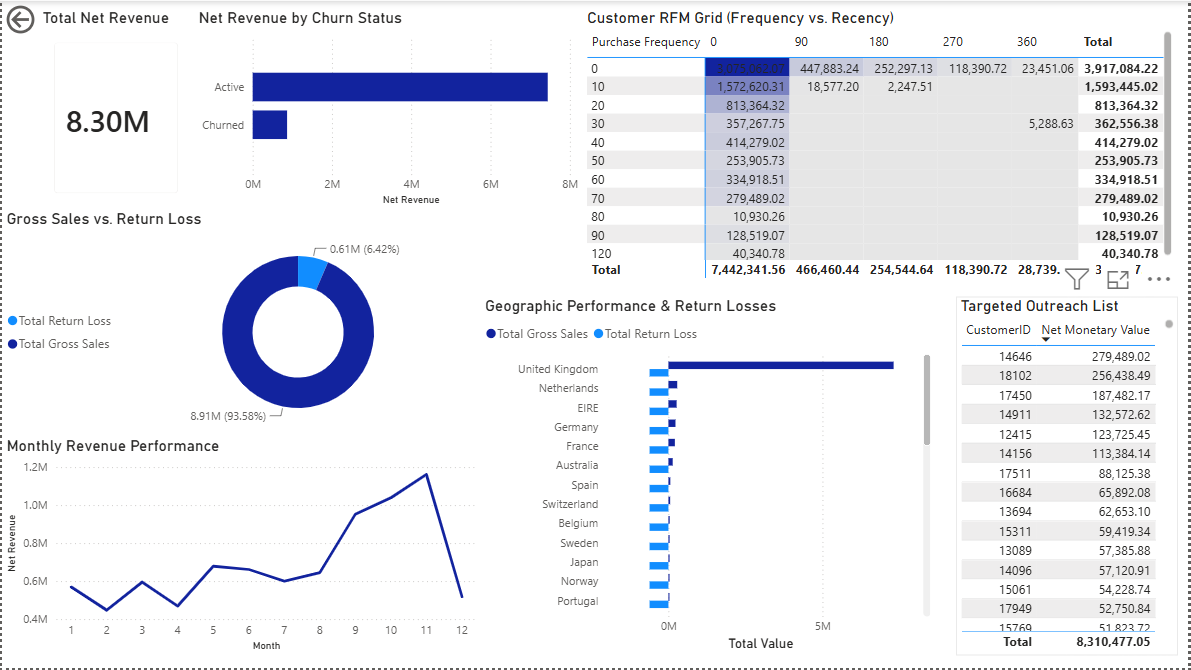

The page's visual inventory and layout, read from the dashboard file:
{"tool":"powerbi","page":{"name":"Page 1","canvas":[1280,720],"ordinal":0},"visuals":[{"type":"barChart","title":"Net Revenue by Churn Status","fields":{"Category":["ecommerce_analytics dim_customer_profiles.churn_status"],"Y":["ecommerce_analytics dim_customer_profiles.Net Corporate Revenue"]},"box":[207.3,8.1,419.4,217],"z":0},{"type":"cardVisual","title":"Total Net Revenue","fields":{"Data":["ecommerce_analytics dim_customer_profiles.Net Corporate Revenue"]},"box":[38.9,8.1,168.4,217],"z":1000},{"type":"donutChart","title":"Gross Sales vs. Return Loss","fields":{"Y":["ecommerce_analytics returns_transactions.Return Loss Absolute","ecommerce_analytics sales_transactions.Total Gross Sales"]},"box":[0,225.1,516.5,244.5],"z":2000},{"type":"lineChart","title":"Monthly Revenue Performance","fields":{"Category":["ecommerce_analytics view_monthly_revenue_trends.sales_month"],"Y":["Sum(ecommerce_analytics view_monthly_revenue_trends.current_month_revenue)"]},"box":[0,469.6,516.5,236.4],"z":3000},{"type":"clusteredBarChart","title":"Geographic Performance & Return Losses","fields":{"Category":["ecommerce_analytics sales_transactions.Country"],"Y":["ecommerce_analytics sales_transactions.Total Gross Sales","ecommerce_analytics returns_transactions.Total Return Loss"]},"box":[516.5,319,490.6,387],"z":4000},{"type":"pivotTable","title":"Customer RFM Grid (Frequency vs. Recency)","fields":{"Values":["Sum(ecommerce_analytics dim_customer_profiles.net_monetary)"],"Columns":["ecommerce_analytics dim_customer_profiles.recency (bins)"],"Rows":["ecommerce_analytics dim_customer_profiles.Purchase Frequency"]},"box":[626.6,8.1,641.2,296.3],"z":5000},{"type":"tableEx","title":"Targeted Outreach List","fields":{"Values":["ecommerce_analytics dim_customer_profiles.CustomerID","Sum(ecommerce_analytics dim_customer_profiles.net_monetary)"]},"box":[1029.8,319,239.6,387],"z":6000},{"type":"actionButton","box":[0,0,100,40],"z":7000}]}

Visuals, with their boxes in screenshot pixels (x1, y1, x2, y2), scaled from the page's 1280x720 canvas onto the 1191x670 screenshot:
"Net Revenue by Churn Status" barChart: BBox(193, 8, 583, 209)
"Total Net Revenue" cardVisual: BBox(36, 8, 193, 209)
"Gross Sales vs. Return Loss" donutChart: BBox(0, 209, 481, 437)
"Monthly Revenue Performance" lineChart: BBox(0, 437, 481, 657)
"Geographic Performance & Return Losses" clusteredBarChart: BBox(481, 297, 937, 657)
"Customer RFM Grid (Frequency vs. Recency)" pivotTable: BBox(583, 8, 1180, 283)
"Targeted Outreach List" tableEx: BBox(958, 297, 1181, 657)
actionButton: BBox(0, 0, 93, 37)
